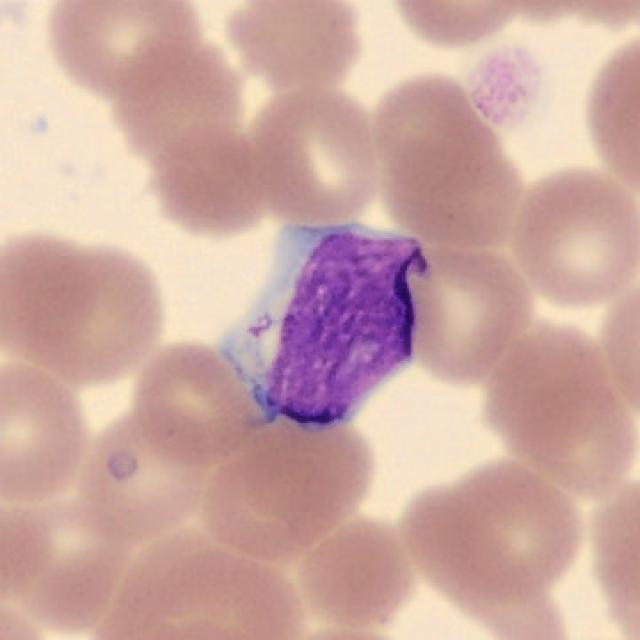Linfocito: (217, 226, 430, 430)
